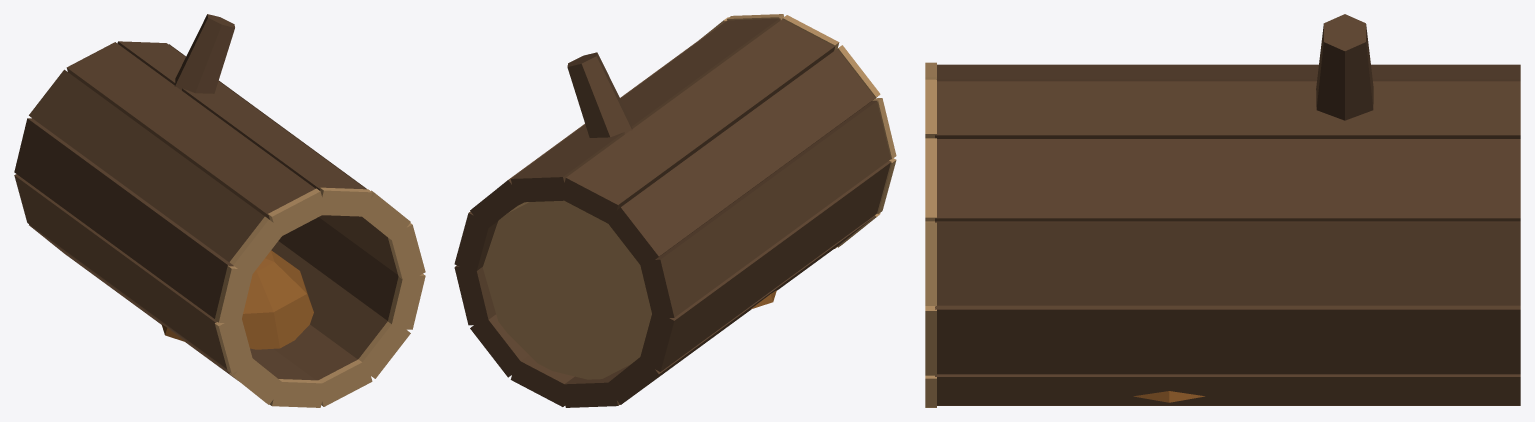
File: Prop_Hoard_Cache_Half.glb
3 renders of one model, left to right at view 1: azimuth 30°, elevation 25°; view 2: azimuth 150°, elevation 25°; view 3: azimuth 270°, elevation 25°, orthographic. The views are drawn at different scales.
Visible parts, largest first — view 1: Prop_Hoard_Cache_Half, Prop_Hoard_Cache_Half_Fill; view 2: Prop_Hoard_Cache_Half; view 3: Prop_Hoard_Cache_Half.
Part boxes in pixels (x1,y1,x2,y2): Prop_Hoard_Cache_Half: (14, 14, 425, 407); Prop_Hoard_Cache_Half_Fill: (161, 250, 313, 349); Prop_Hoard_Cache_Half: (454, 14, 896, 407); Prop_Hoard_Cache_Half: (925, 14, 1520, 407).
Size of what is drawn, in the model's own units: 0.3546 by 0.4522 by 0.61.
